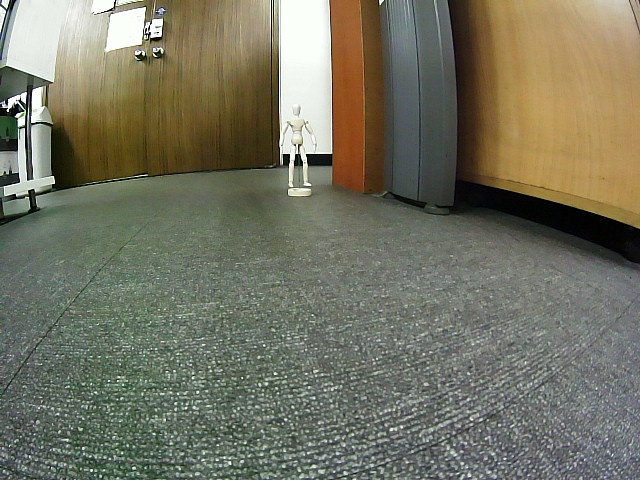person: (280, 104, 318, 188)
